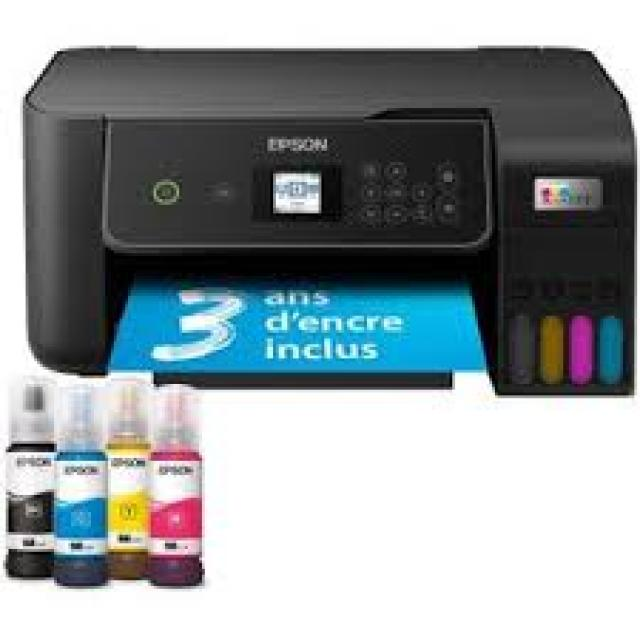printer: (20, 43, 637, 395)
